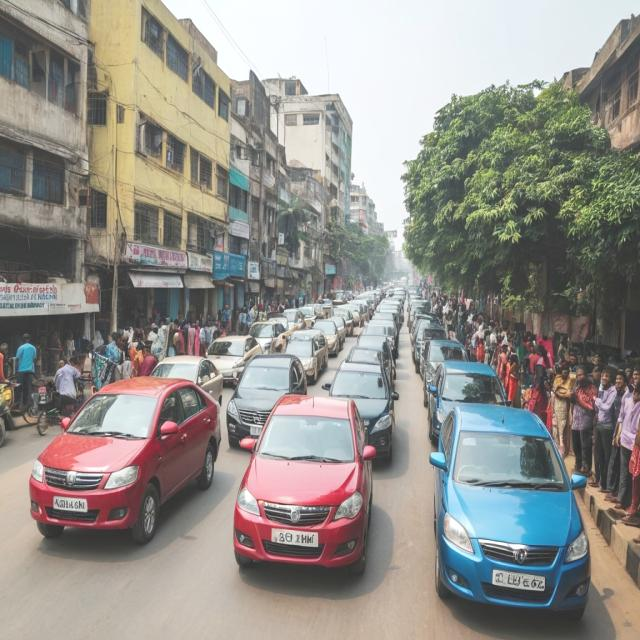black: (321, 356, 393, 457), (230, 358, 308, 447)
blue: (435, 402, 601, 624), (429, 361, 512, 445)
red: (26, 372, 227, 554), (229, 393, 377, 584)
